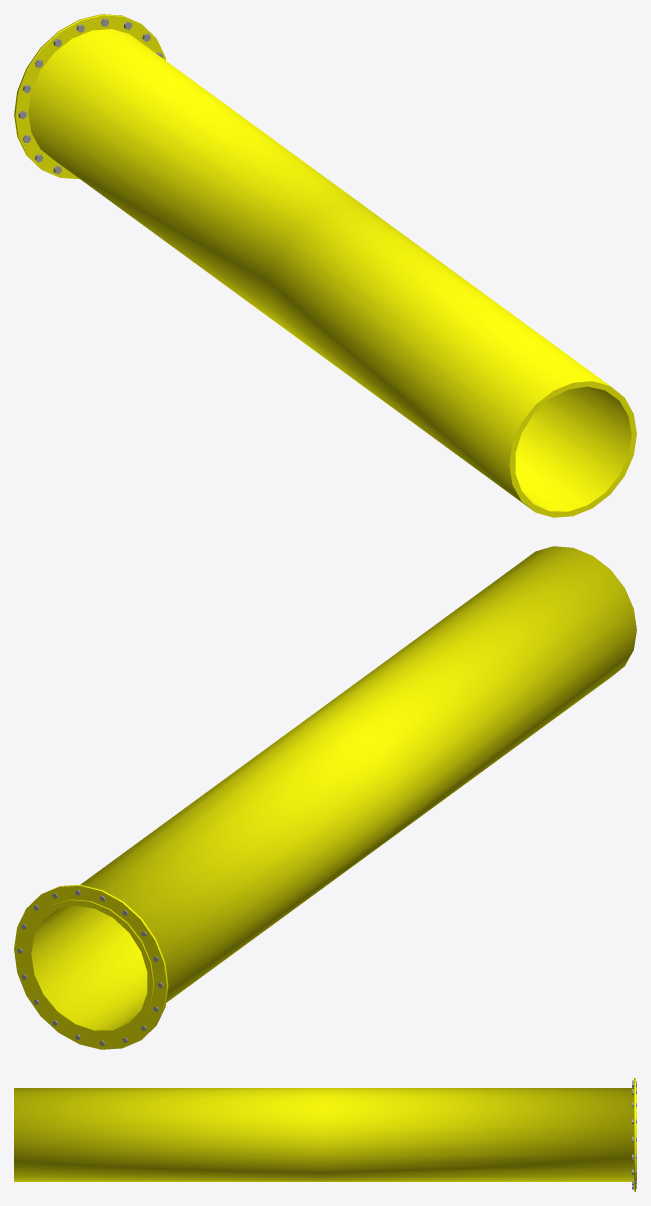
Rendered from clipped_vB.dae.
3 views of the same model, one above another, from view 1: azimuth 30°, elevation 25°; view 2: azimuth 150°, elevation 25°; view 3: azimuth 270°, elevation 25° (orthographic). The views are drawn at different scales.
Visible parts, largest first — view 1: segment13_clipped; view 2: segment13_clipped; view 3: segment13_clipped.
Part boxes in pixels (box(x1,y1,x2,y2)): segment13_clipped: box(14, 14, 636, 517); segment13_clipped: box(14, 546, 636, 1049); segment13_clipped: box(14, 1078, 636, 1191).
Bounding box in the file's own units: 0.7315 × 4 × 0.7241.
